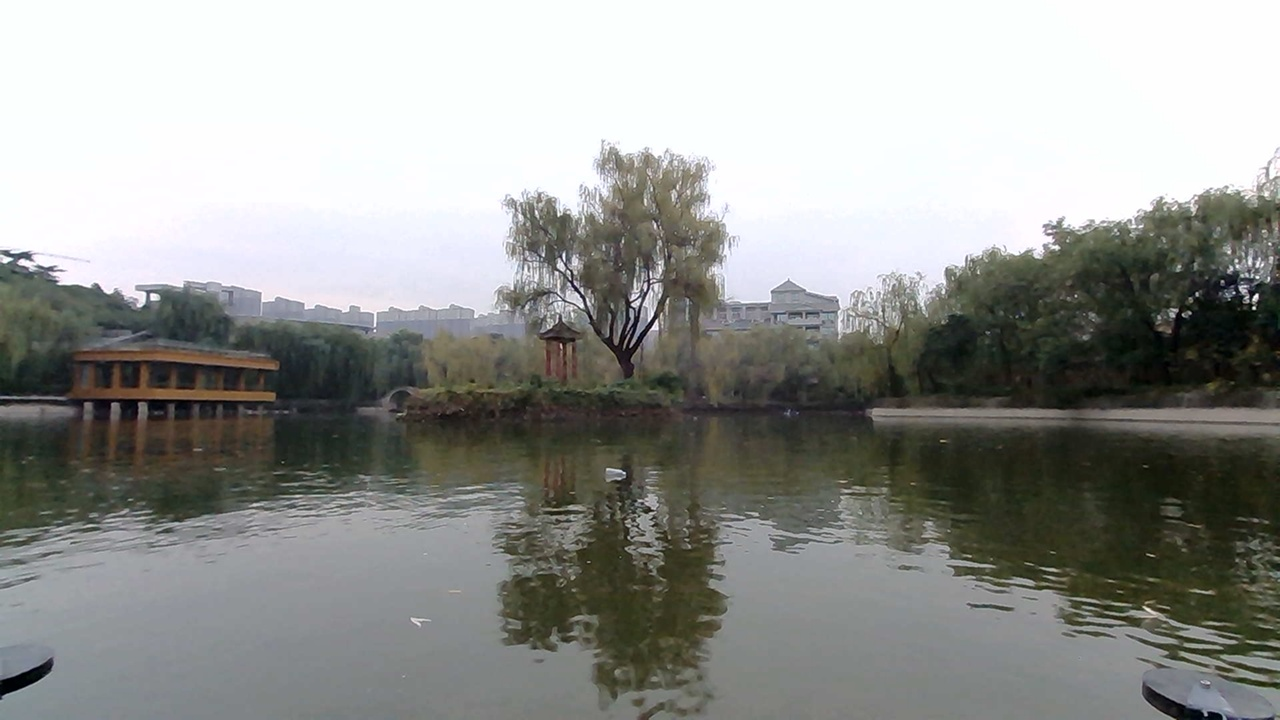bottle: (600, 449, 664, 482)
